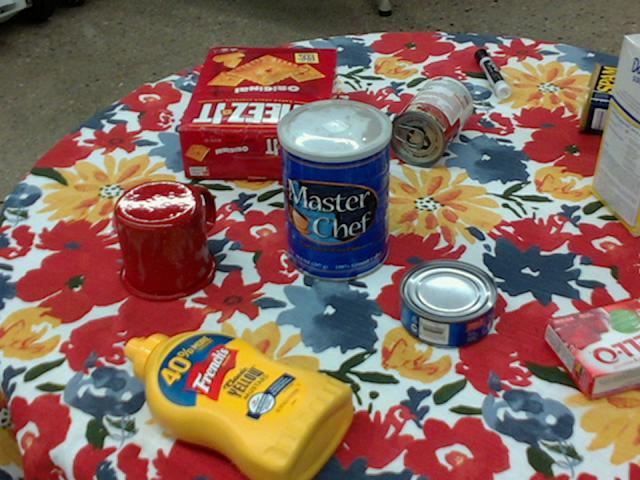cracker_box: (178, 46, 338, 180)
gelatin_box: (545, 299, 639, 398)
large_marker: (475, 48, 510, 97)
master_chef_can: (276, 98, 390, 281)
mug: (112, 179, 217, 301)
mustard_bottle: (124, 330, 355, 479)
potted_meat_can: (577, 59, 639, 137)
sugar_box: (590, 34, 639, 237)
tomato_soup_can: (388, 74, 472, 165)
tuna_fish_can: (399, 259, 498, 349)
